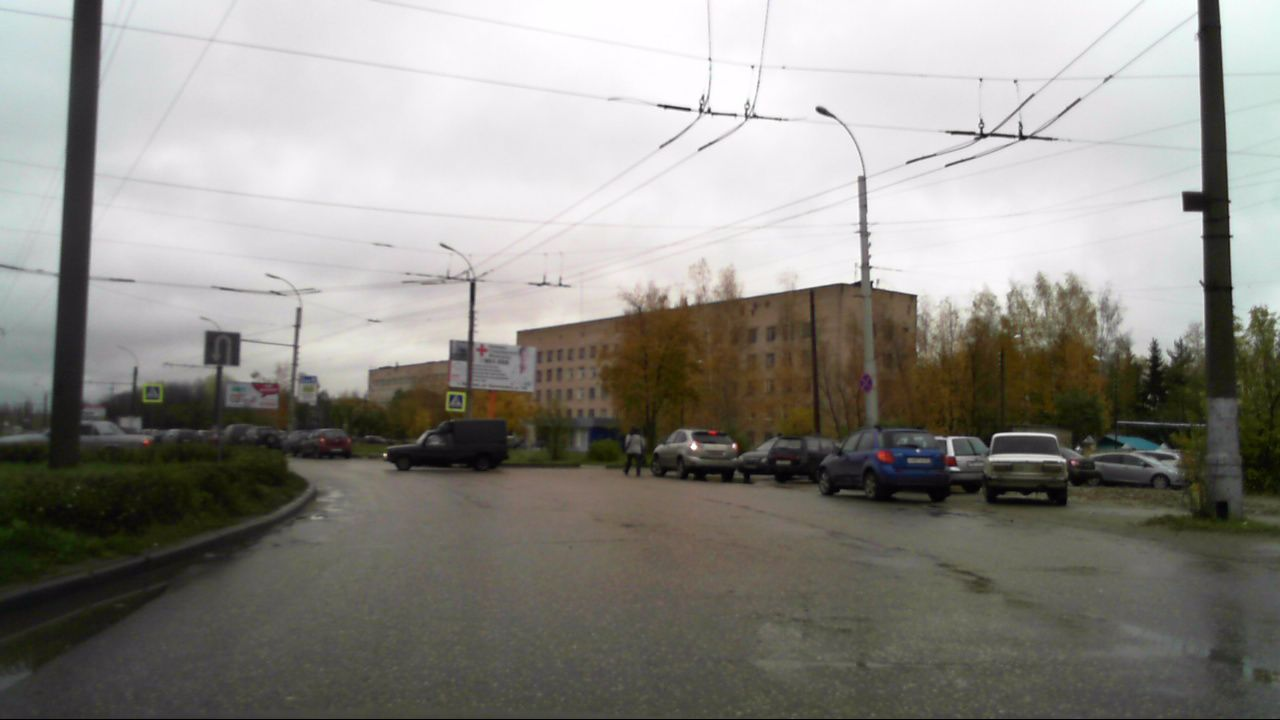U-turn: (206, 332, 239, 365)
